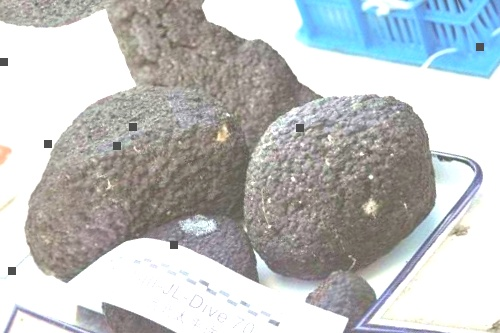halobolite: (207, 55, 464, 289), (29, 81, 238, 282)
